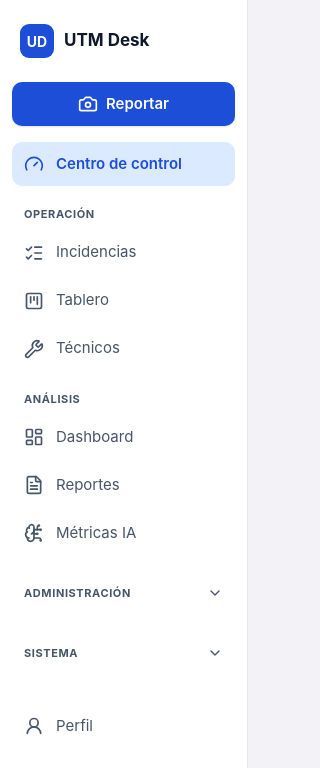
Test case: NavegacionLateral › abre/cierra un grupo con el botón y recuerda el estado
Click the button "Administración": (124, 593) [12,571,235,615]
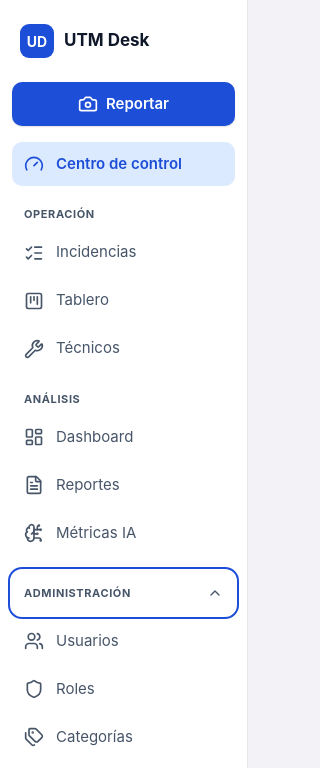
Result: the button "Administración" is expanded
Result: the link "Roles" is shown at [24,679,95,699]
Click the button "Administración": (124, 593) [12,571,235,615]
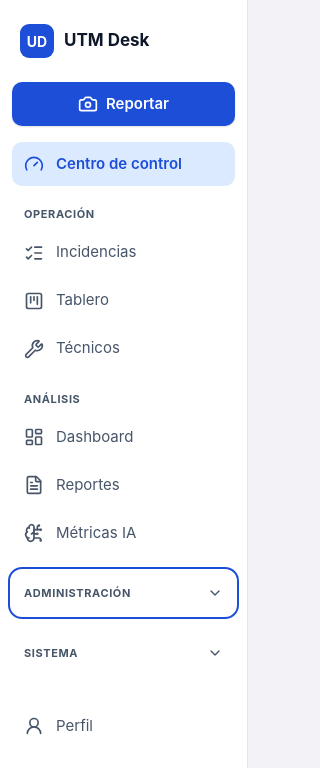
Result: the button "Administración" is collapsed at [12,571,235,615]
